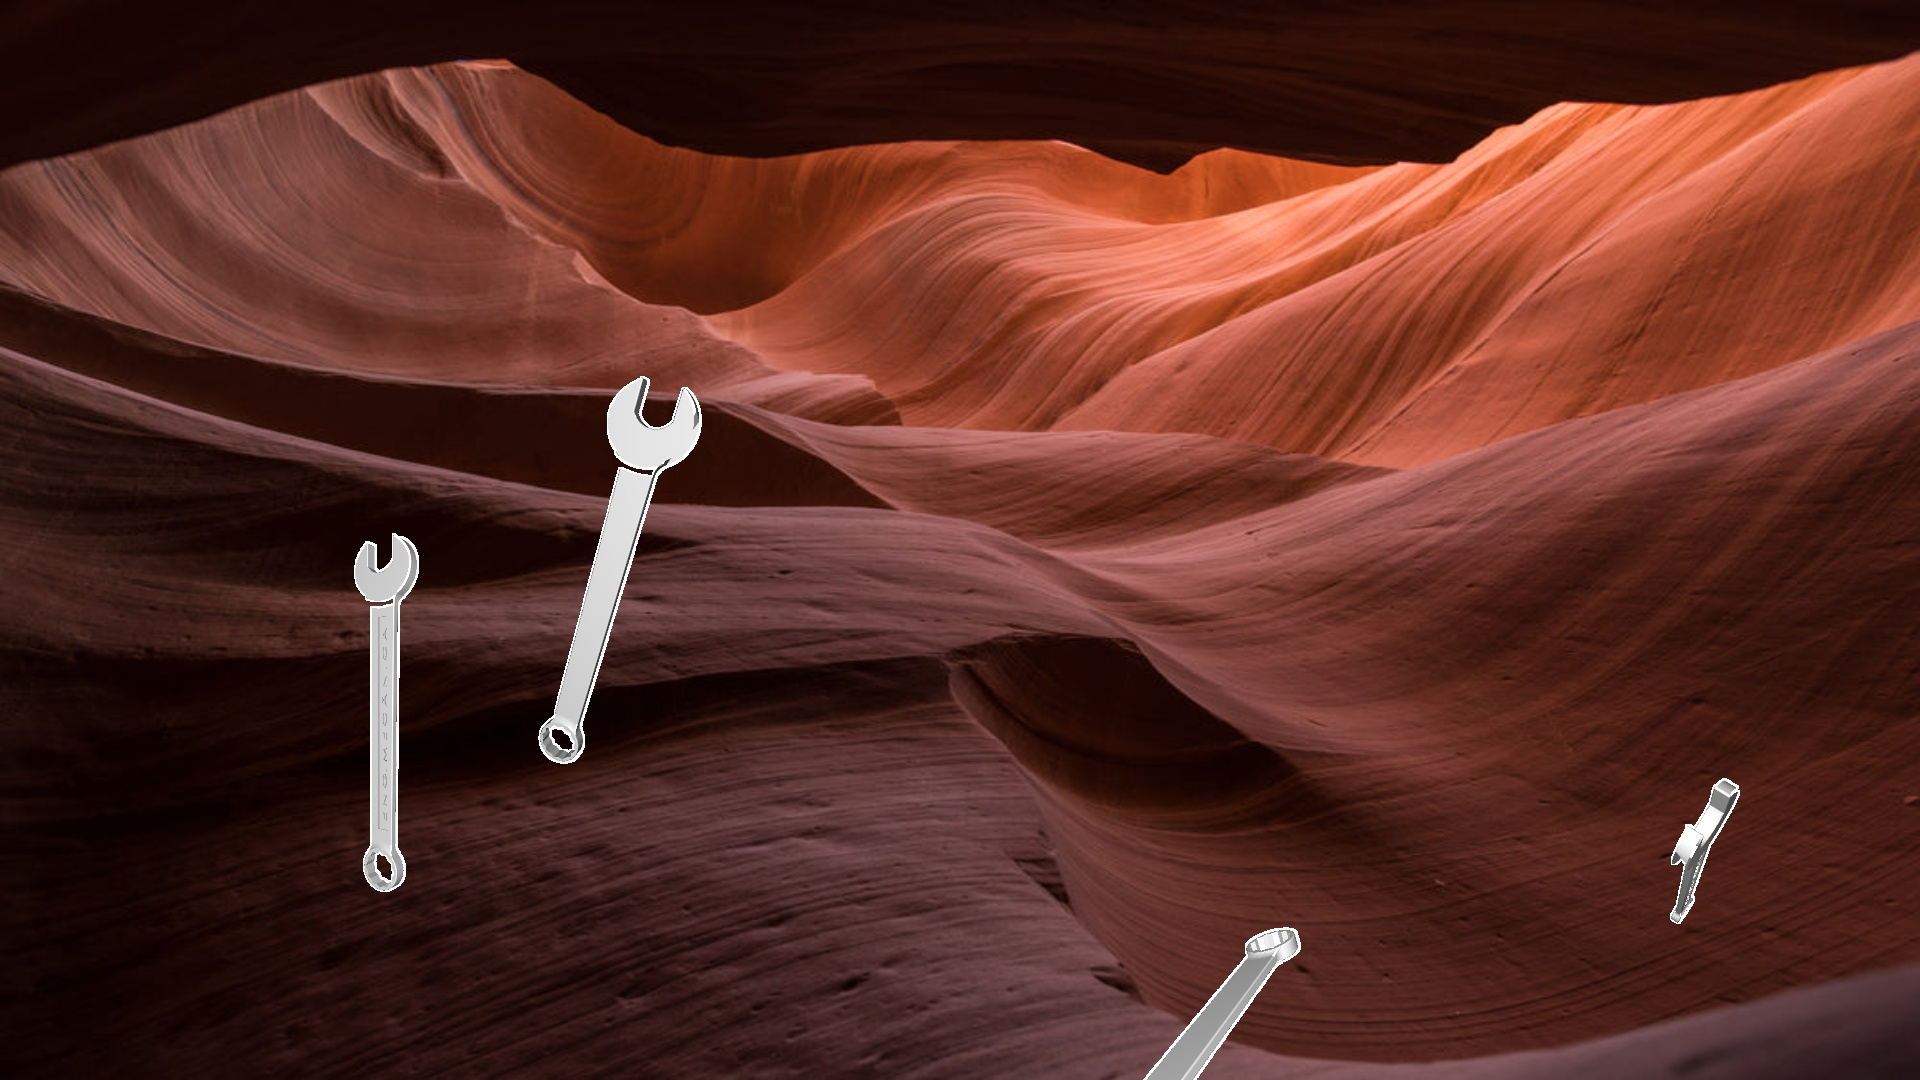Mixed Key: (538, 376, 702, 764), (1143, 927, 1300, 1079), (353, 533, 418, 891), (1669, 778, 1739, 923)
